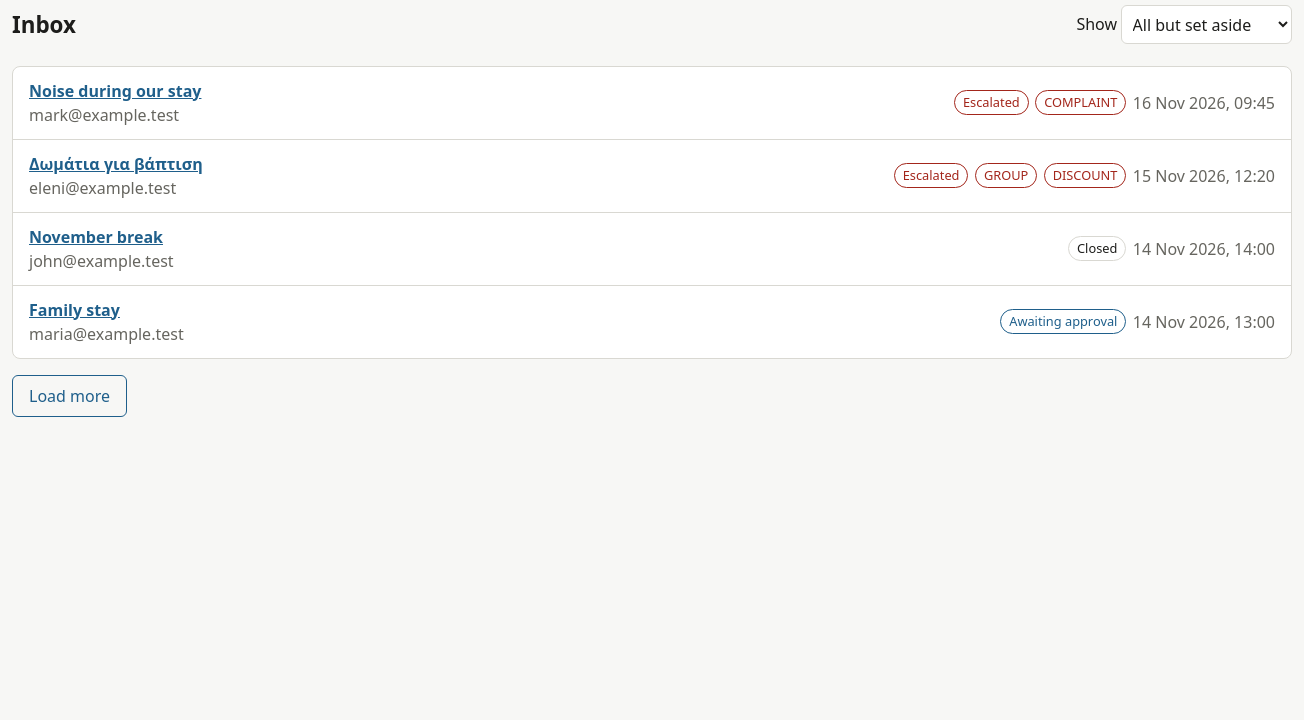
Test case: Inbox › loads the next page after the last row, using the API's cursor
Expected: the number of list items is 4, [13, 67, 1291, 139]; [13, 139, 1291, 212]; [13, 212, 1291, 285]; [13, 285, 1291, 358]
Click the button "Load more" at (70, 396), box [12, 375, 127, 417]
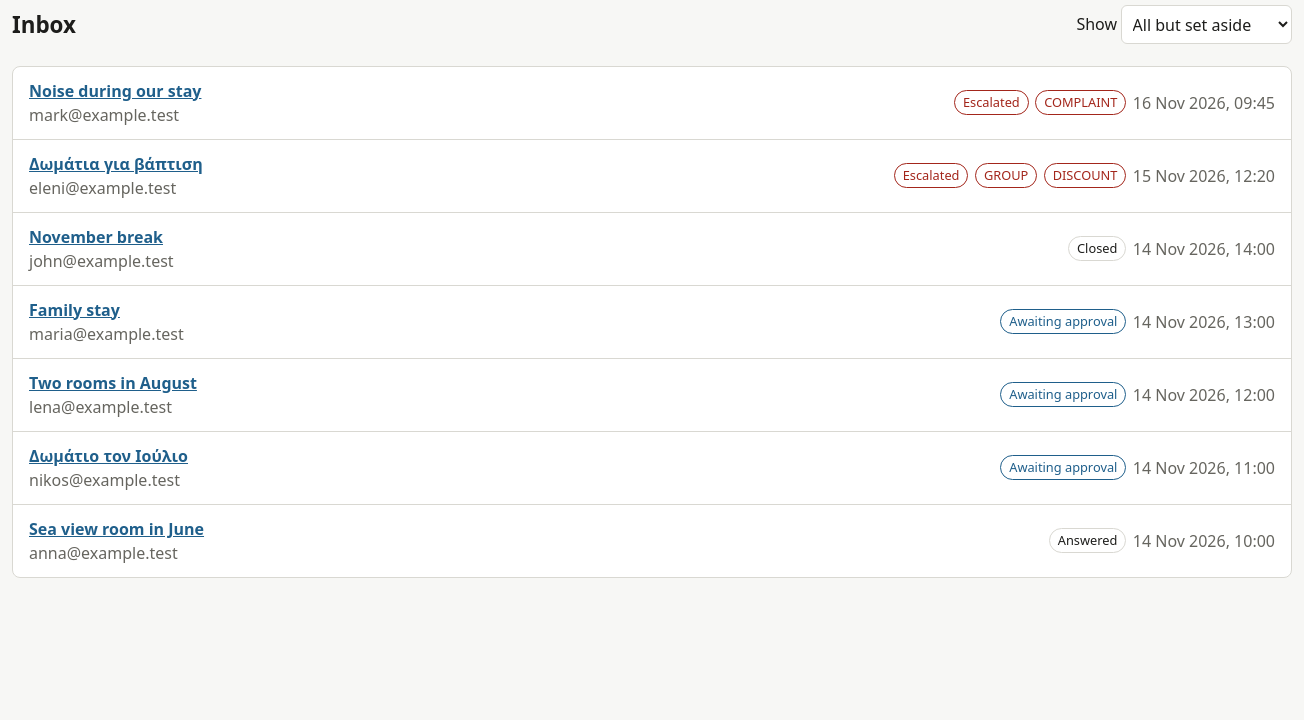
Now the link "Sea view room in June" is shown, box [29, 517, 204, 541]
Now the button "Load more" is gone
